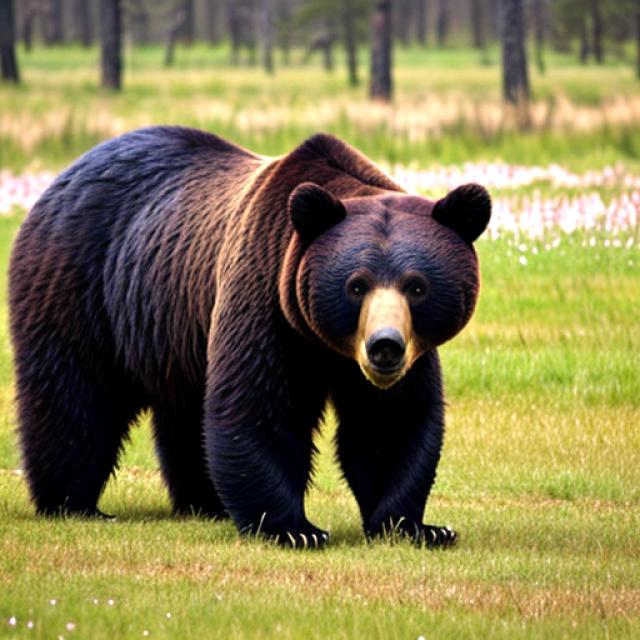bear: (242, 151, 484, 389)
